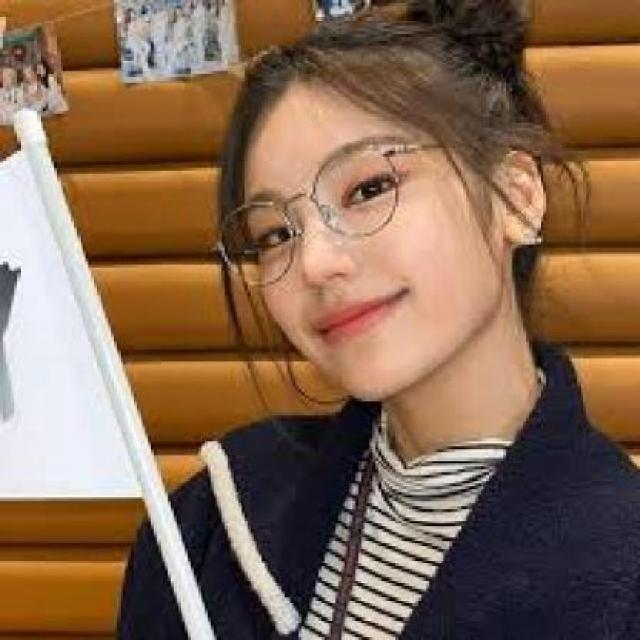glasses: (200, 130, 412, 299)
